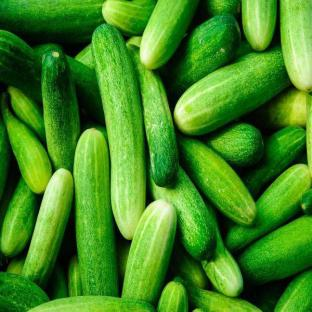Cucumber: (93, 25, 146, 239), (175, 47, 290, 135), (74, 129, 118, 296), (226, 165, 311, 251), (178, 134, 256, 226), (128, 45, 178, 187), (148, 166, 216, 259), (167, 14, 240, 99), (22, 169, 73, 287), (122, 199, 176, 305), (0, 93, 52, 193), (238, 216, 311, 284), (43, 51, 80, 171), (243, 127, 305, 198), (140, 0, 199, 69), (202, 202, 243, 296), (0, 30, 42, 102), (0, 178, 38, 257), (280, 0, 311, 92), (175, 278, 260, 311), (204, 123, 263, 166), (67, 56, 104, 124), (248, 87, 306, 128), (8, 86, 45, 143), (170, 239, 209, 289), (102, 0, 155, 36), (0, 272, 48, 311), (30, 297, 155, 311), (275, 270, 311, 311), (0, 159, 20, 231), (249, 280, 287, 311), (0, 113, 11, 199), (158, 281, 188, 311), (198, 0, 241, 19), (46, 263, 68, 300), (117, 238, 131, 284), (82, 123, 108, 147), (68, 255, 82, 296), (75, 44, 94, 69), (233, 39, 254, 60), (7, 255, 25, 275), (307, 93, 311, 174), (300, 189, 312, 215), (294, 151, 307, 165), (126, 37, 141, 47), (193, 308, 204, 311)
